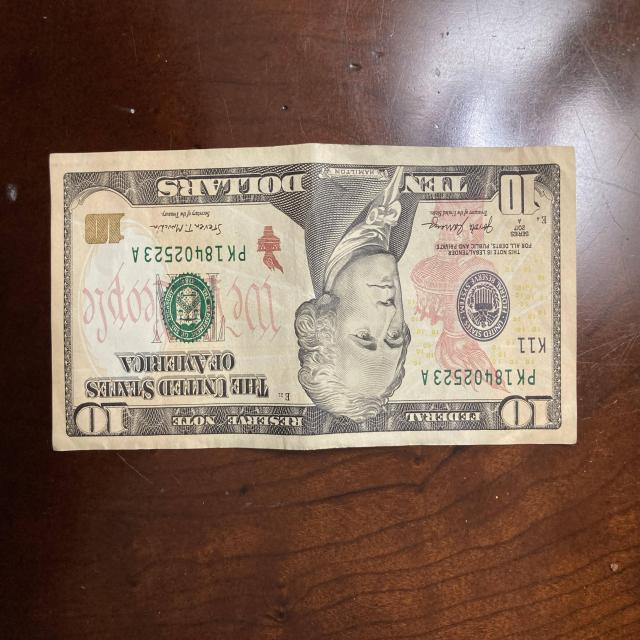ten: (51, 144, 576, 450)
